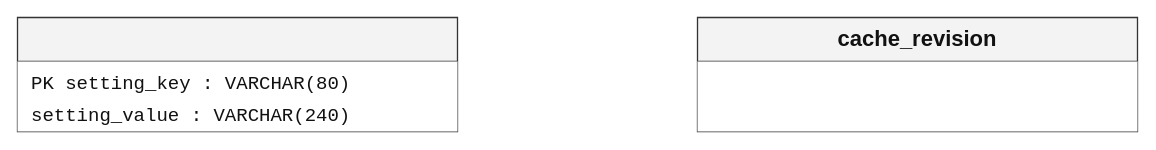
Some shapes in this 1156 by 150 pixel diagram are drawn without their labels. Here are the shapes that lost their labels. From the top down, the box of each, then its label:
(16, 16, 458, 132): app_settings
(697, 61, 1137, 131): PK id : BIGINT revision : BIGINT
